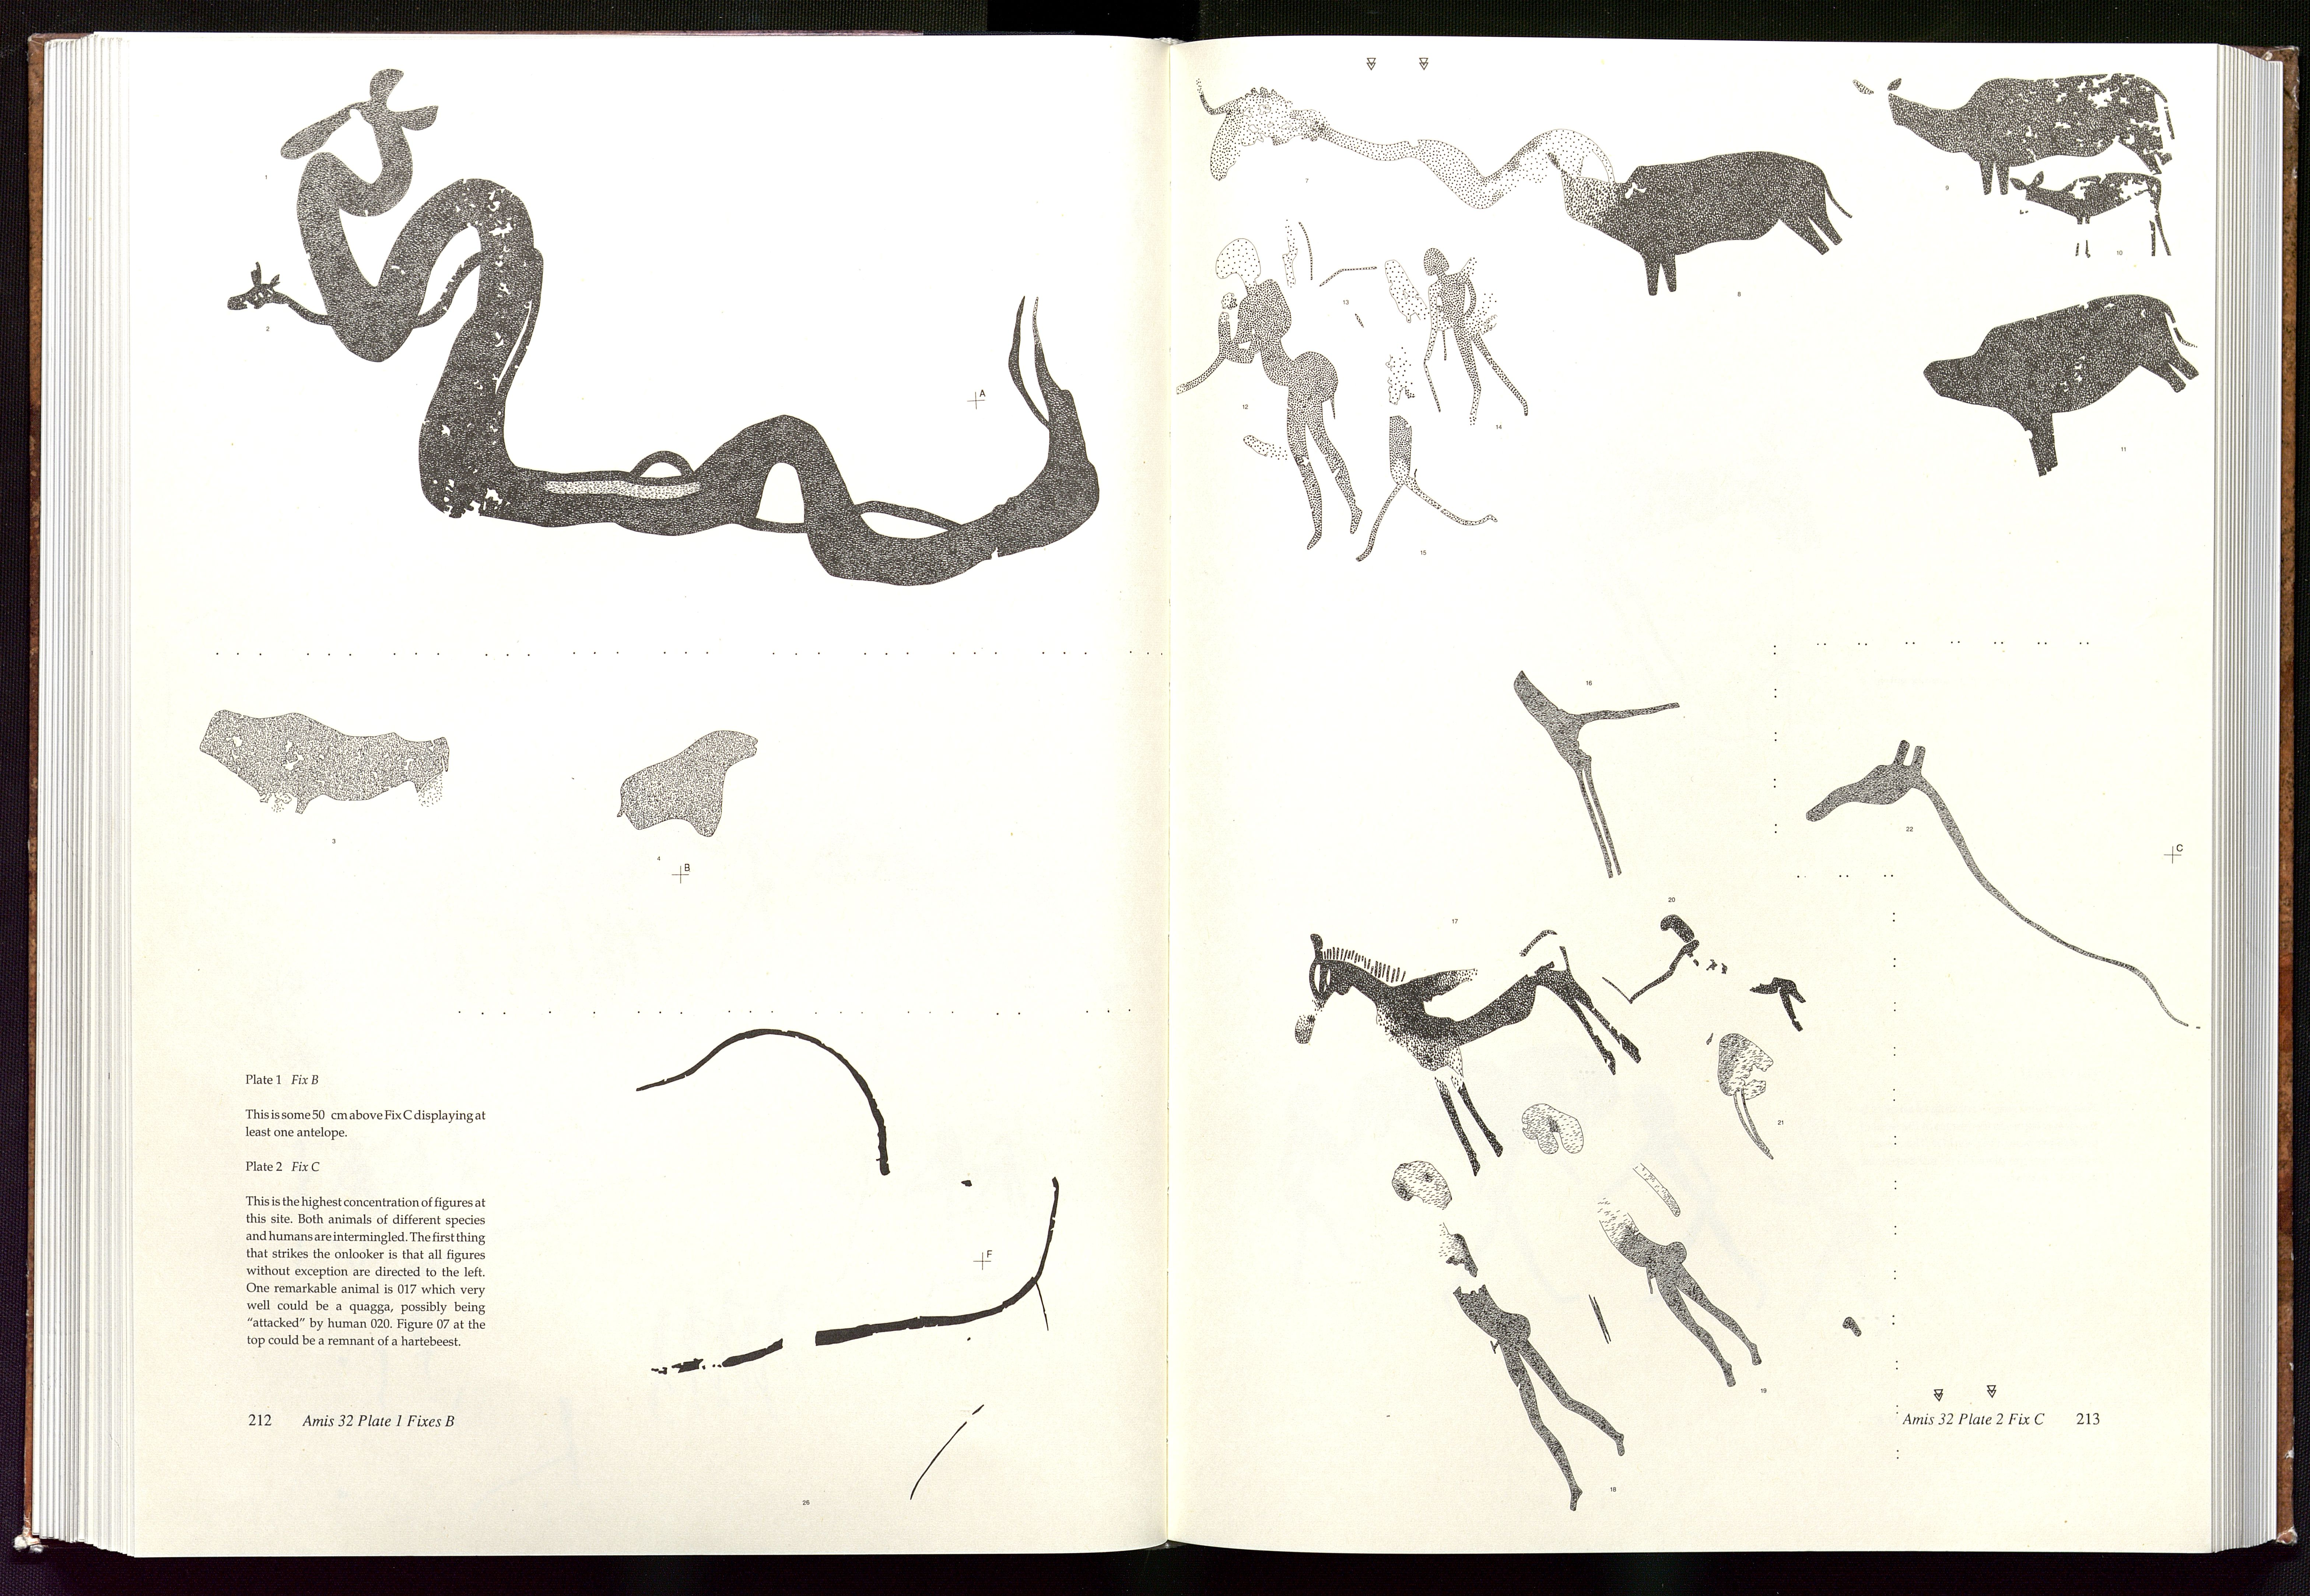animal: (1181, 72, 1853, 296), (1298, 919, 1645, 1150), (1848, 60, 2197, 266), (1934, 276, 2197, 477), (2006, 161, 2183, 259)
human: (1367, 1145, 1630, 1516), (1519, 1104, 1775, 1396), (1166, 234, 1362, 556), (1411, 242, 1539, 438), (1360, 352, 1487, 548)
